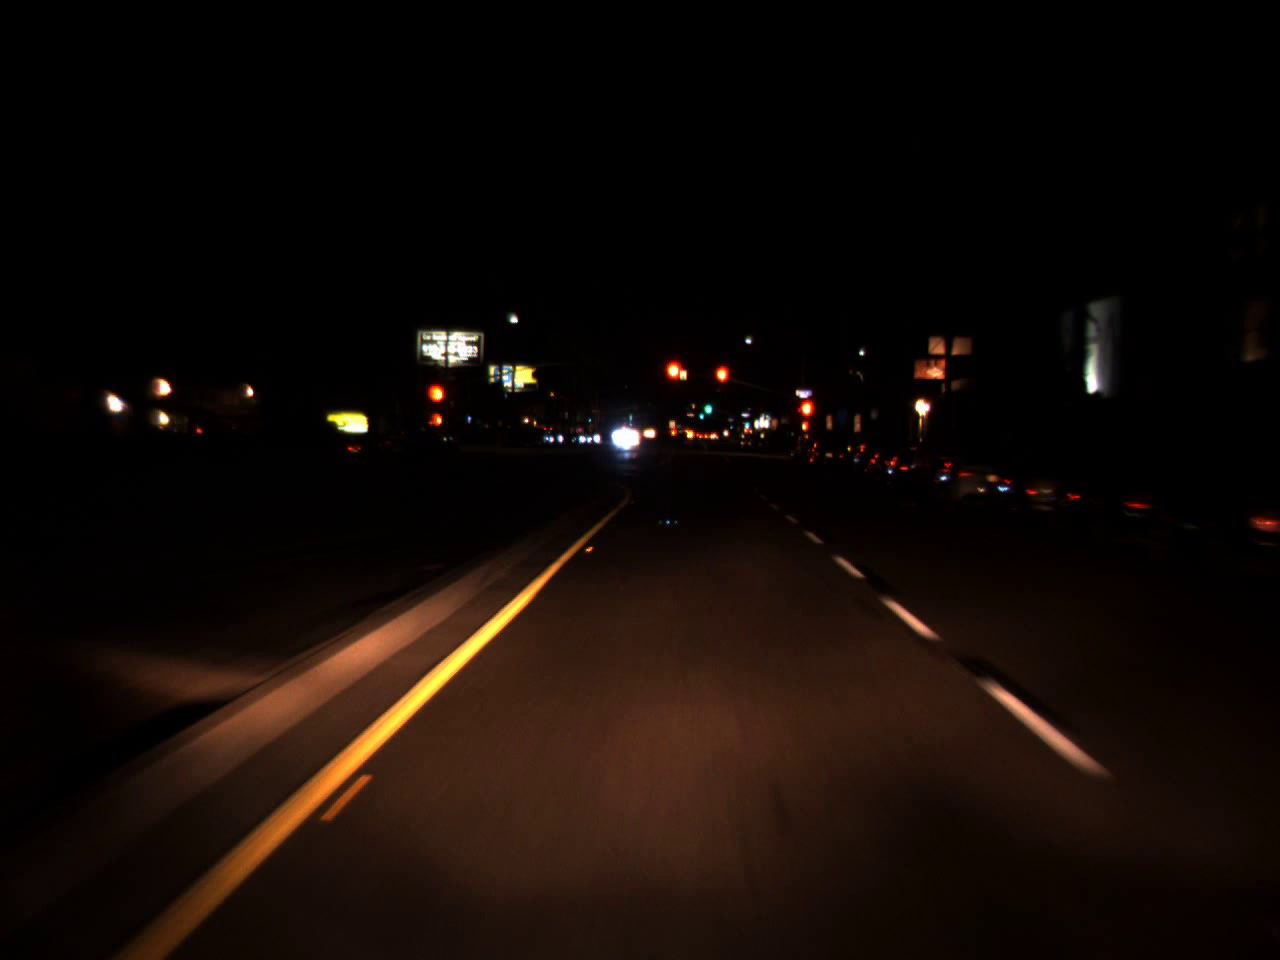go: (703, 396, 712, 414), (741, 416, 750, 428), (697, 406, 703, 421)
stop: (426, 382, 447, 425), (796, 396, 817, 439), (714, 363, 730, 403), (663, 362, 684, 391)
